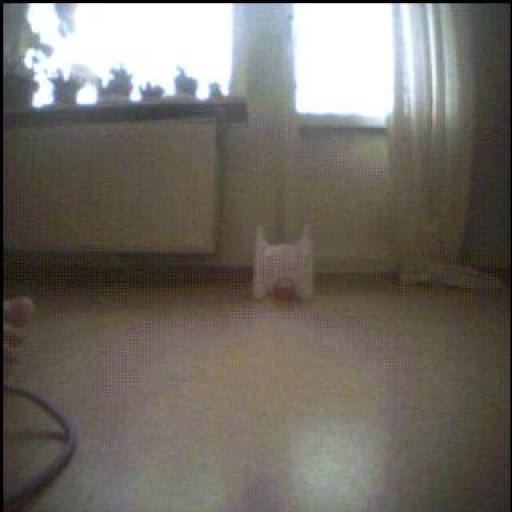Basket: (275, 278, 299, 302)
